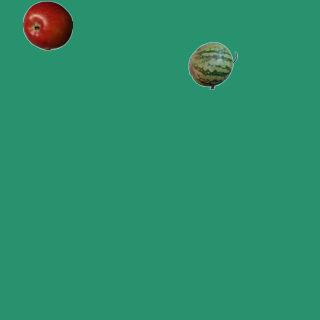Apple Braeburn: (22, 0, 72, 50)
Watermelon: (187, 40, 237, 90)
